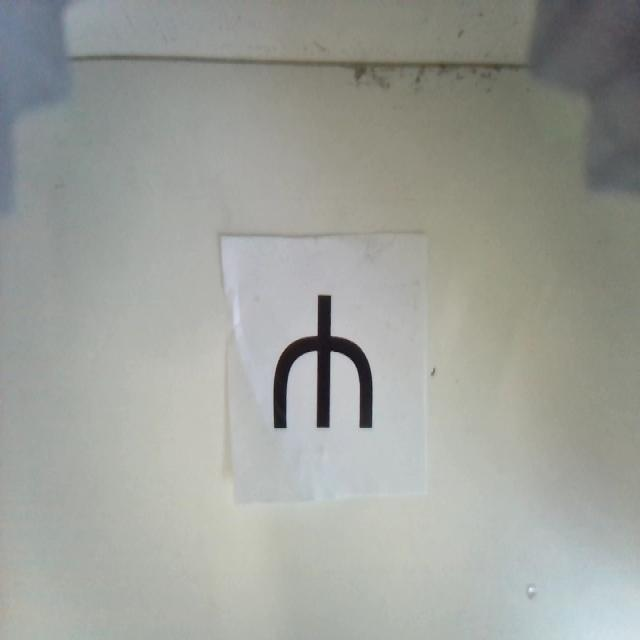nedoF: (272, 294, 374, 429)
